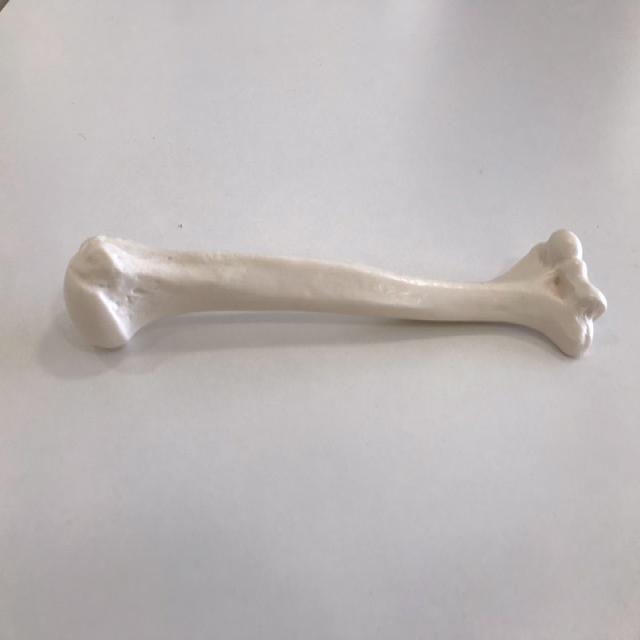bone: (61, 214, 610, 378)
